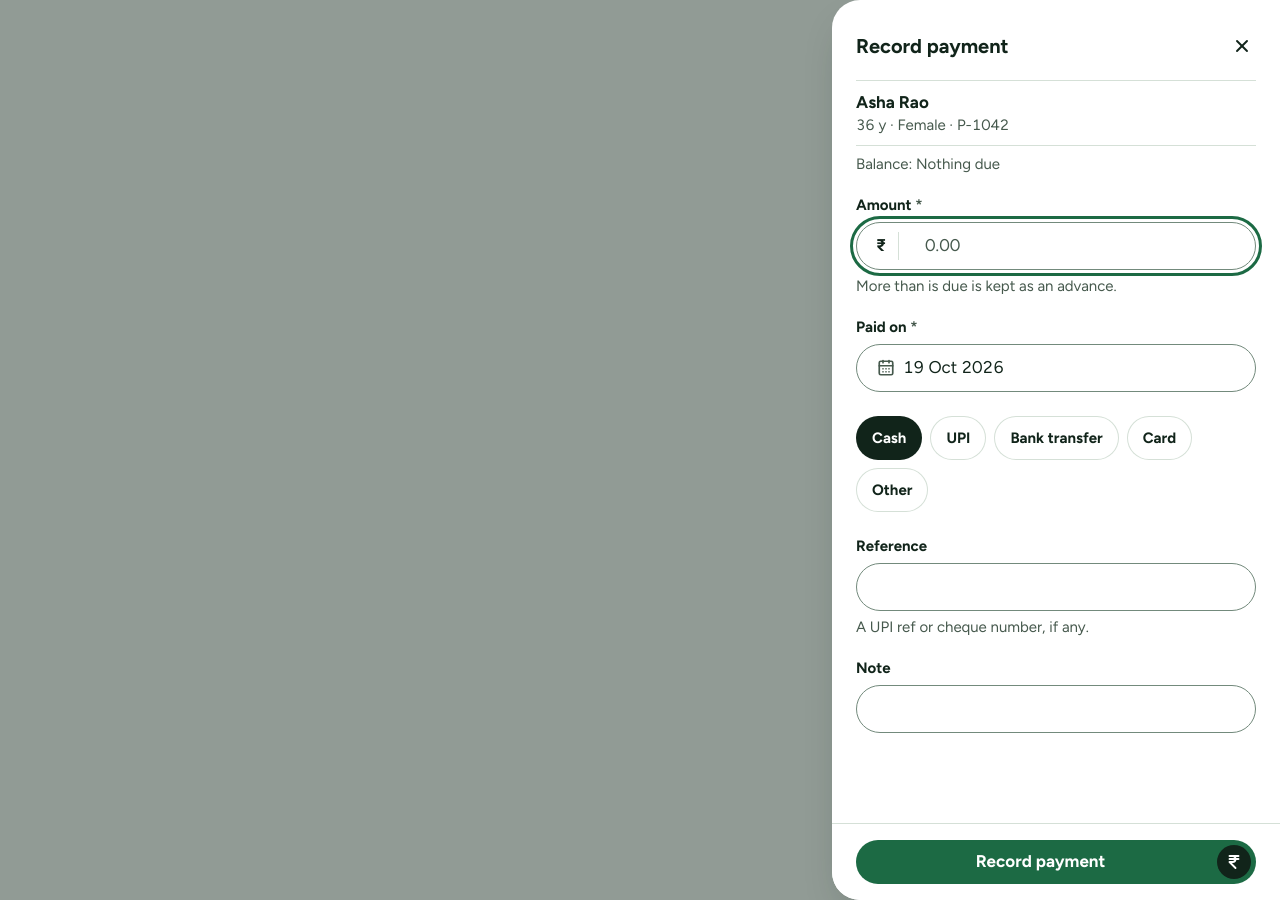
RecordPaymentSheet (plan §15.3; D323, D324, D334) › refuses an amount of nothing, in its field's words
Expected: the field labelled "Amount *" is empty, [856,222,1256,270]
Click the button "Record payment" at x=1056, y=862, box [856,840,1256,884]
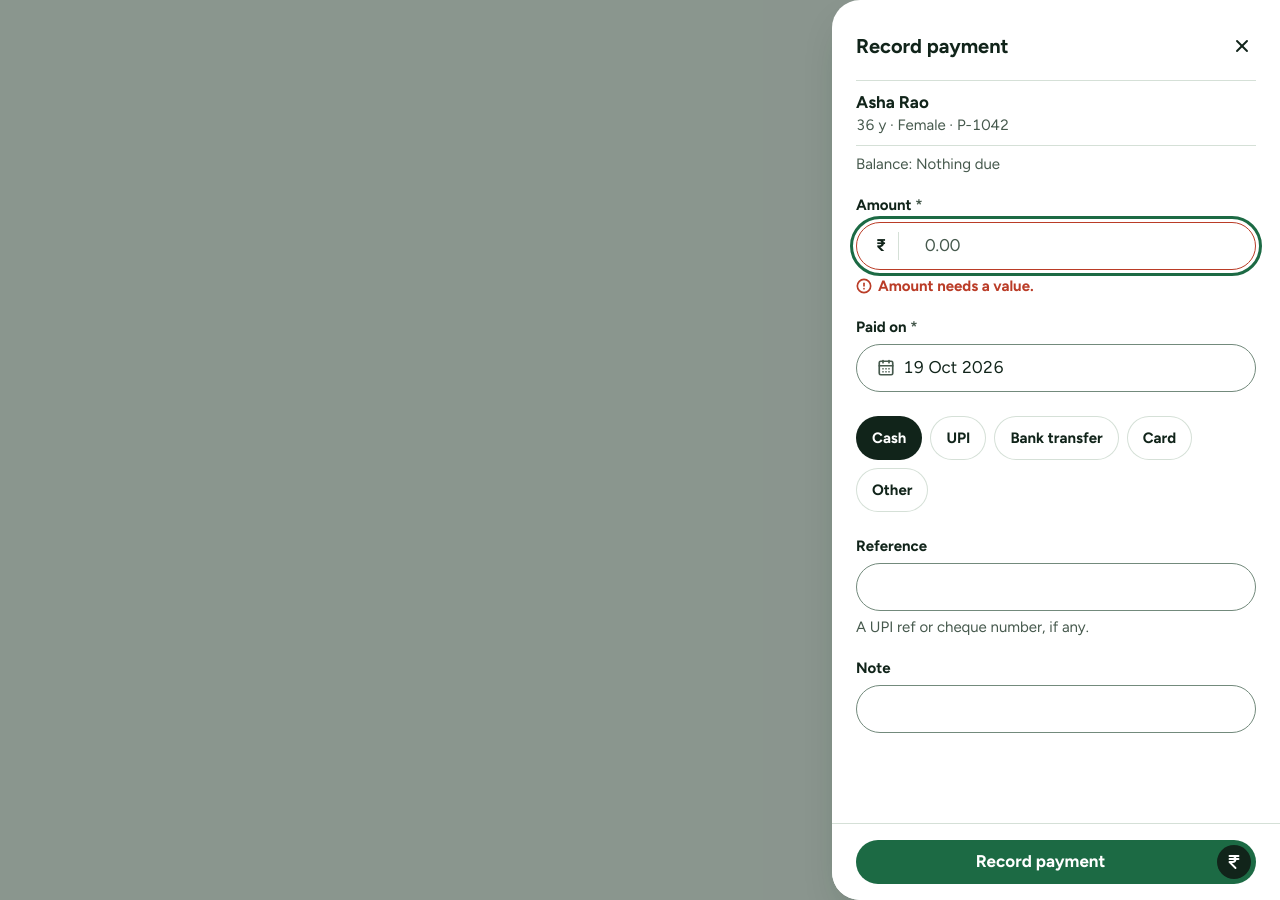
Now the text "Amount needs a value." is shown, box [856,277,1034,295]
